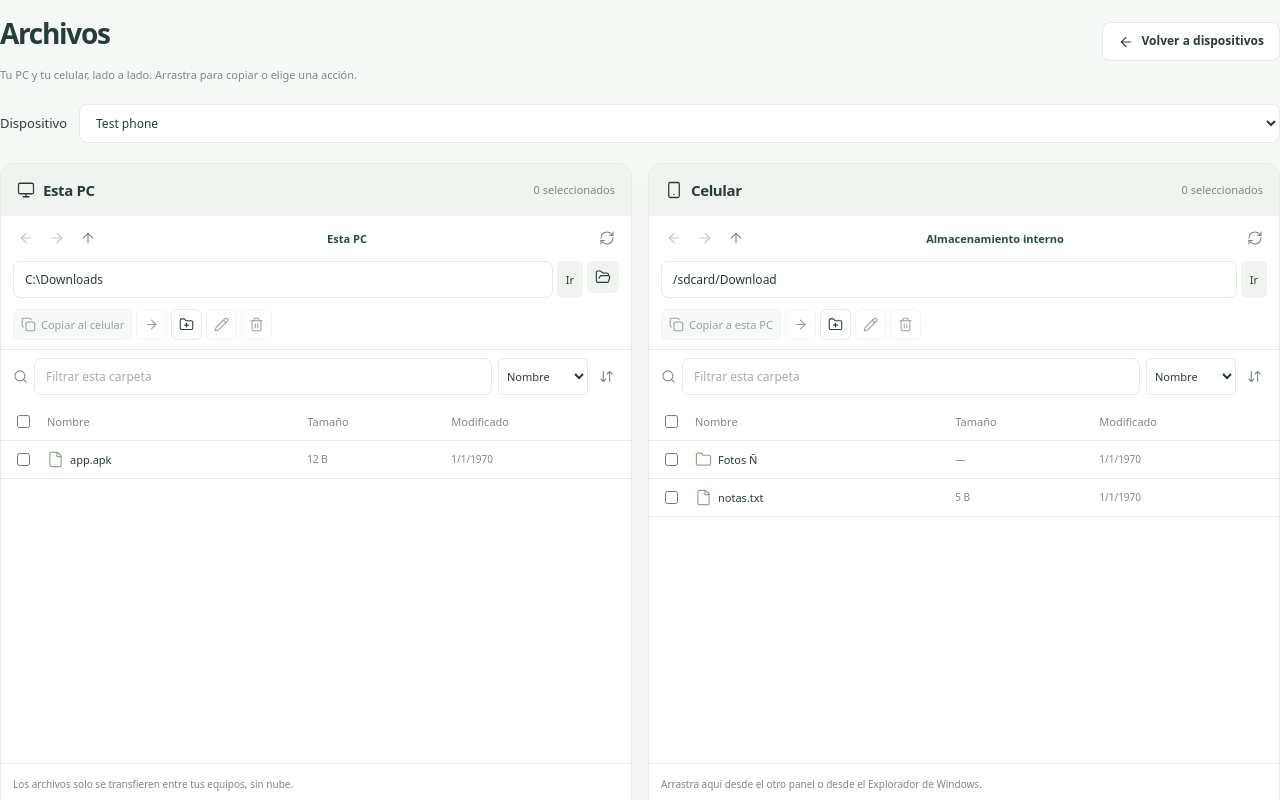
Test: dual-pane file manager › confirms permanent Android deletion and can cancel without changing files
The image size is (1280, 800).
Expected: the button "app.apk" is shown, [70, 452, 112, 467]
Expected: the button "Fotos Ñ" is shown, [718, 452, 758, 467]
What coordinates should you click on to do the following:
click the checkbox named "Celular: notas.txt"
I would click on:
 (672, 497)
Its box is [665, 491, 678, 504].
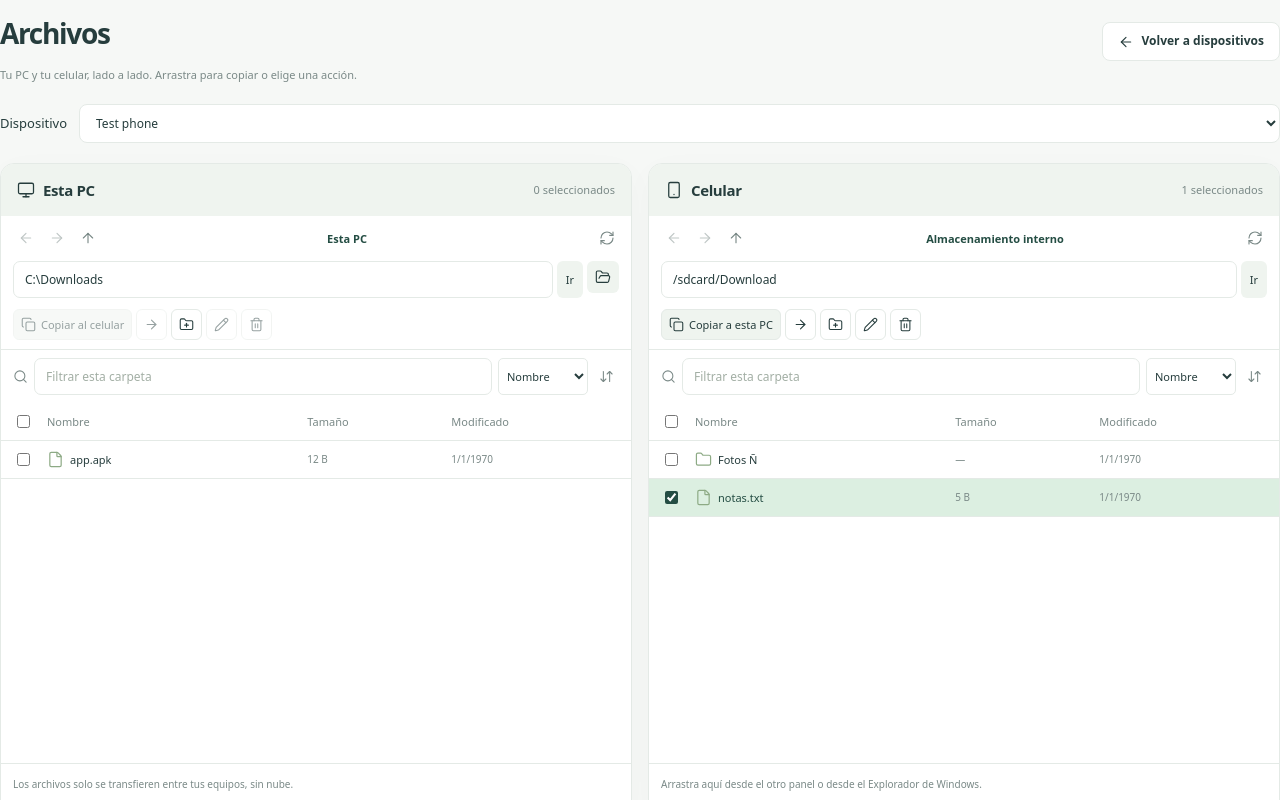
What coordinates should you click on to do the following:
click the button named "Celular: Eliminar"
I would click on:
 (905, 324)
Its box is [890, 309, 921, 340].
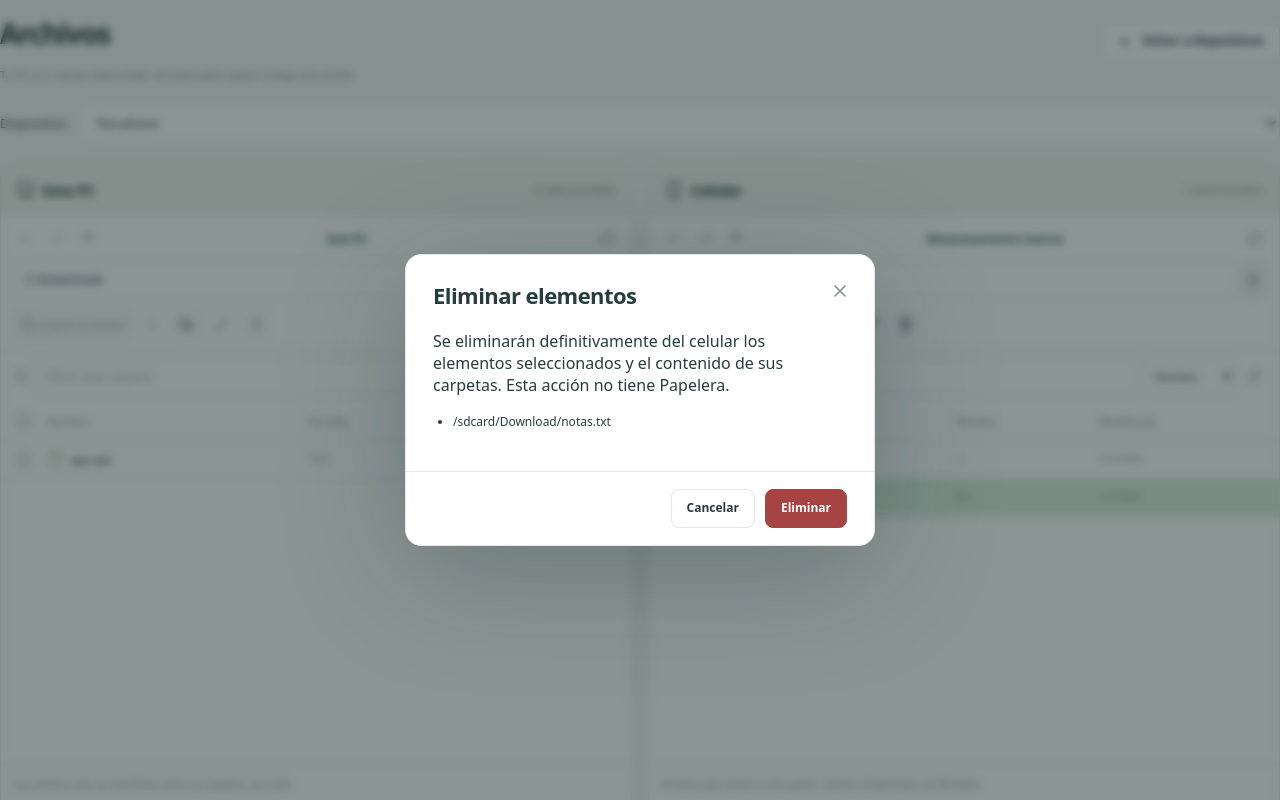
Now the text "Se eliminarán definitivamente del celular los elementos seleccionados y el contenido de sus carpetas. Esta acción no tie" is shown, box [433, 330, 783, 396]
What coordinates should you click on to do the following:
click the button "Cancelar"
I would click on:
 (713, 508)
Its box is [670, 489, 755, 528].
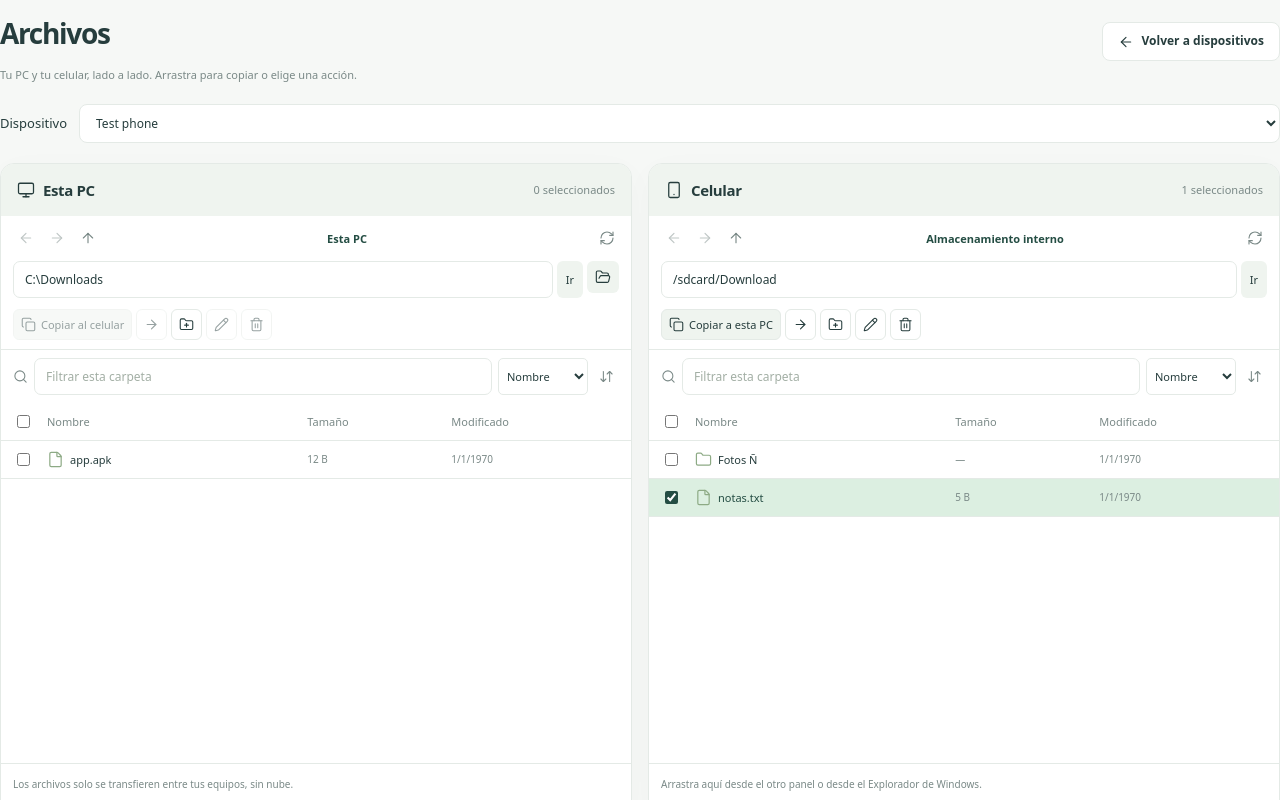
Now the dialog is gone
